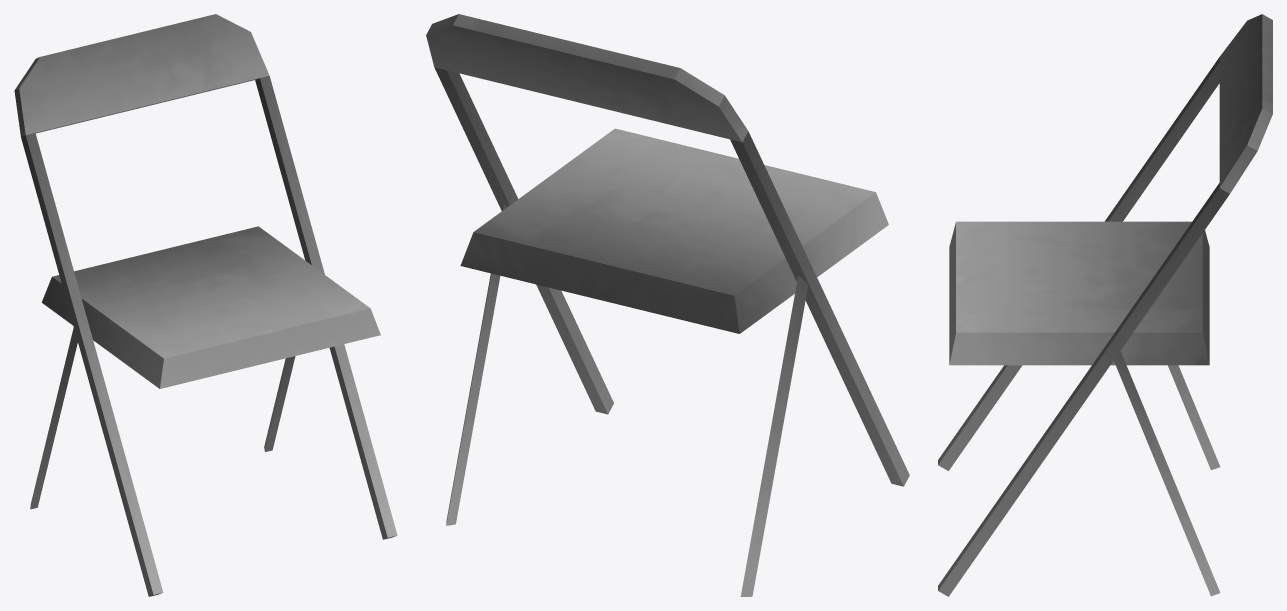
The model's file is FoldingChair.fbx.
3 renders of one model, left to right at view 1: azimuth 30°, elevation 25°; view 2: azimuth 150°, elevation 25°; view 3: azimuth 270°, elevation 25°, orthographic. The views are drawn at different scales.
Visible parts, largest first — view 1: Maya_File_Assets:TexturedAssetsCurrent:EliesAsstsTextures:Ti; view 2: Maya_File_Assets:TexturedAssetsCurrent:EliesAsstsTextures:Ti; view 3: Maya_File_Assets:TexturedAssetsCurrent:EliesAsstsTextures:Ti.
Boxes of the visible parts, box(x1,y1,x2,y2) form: Maya_File_Assets:TexturedAssetsCurrent:EliesAsstsTextures:Ti: box(14, 14, 397, 596); Maya_File_Assets:TexturedAssetsCurrent:EliesAsstsTextures:Ti: box(426, 14, 909, 596); Maya_File_Assets:TexturedAssetsCurrent:EliesAsstsTextures:Ti: box(938, 14, 1272, 596).
Size of the model in its own units: 0.5799 by 0.971 by 0.6264.
